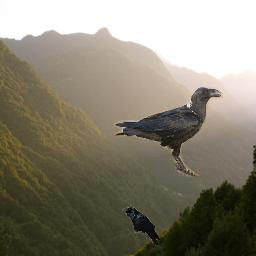Crow: (114, 87, 223, 177), (122, 207, 160, 246)
